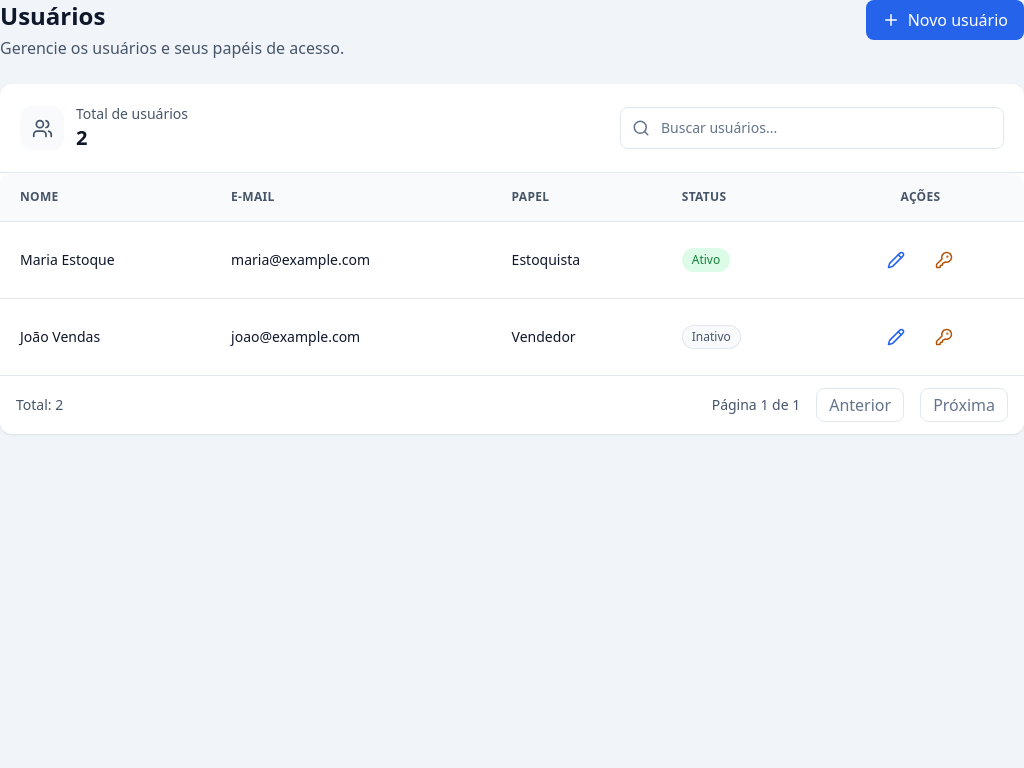
UserListPage › editar muda papel e ativo enviando PATCH; e-mail não é editável
The width and height of the screenshot is (1024, 768).
Expected: the text "Maria Estoque" is shown, 0,222 -> 211,298
Step 1. Click the button named "Editar João Vendas" → (896, 337), box 874,315 -> 918,359
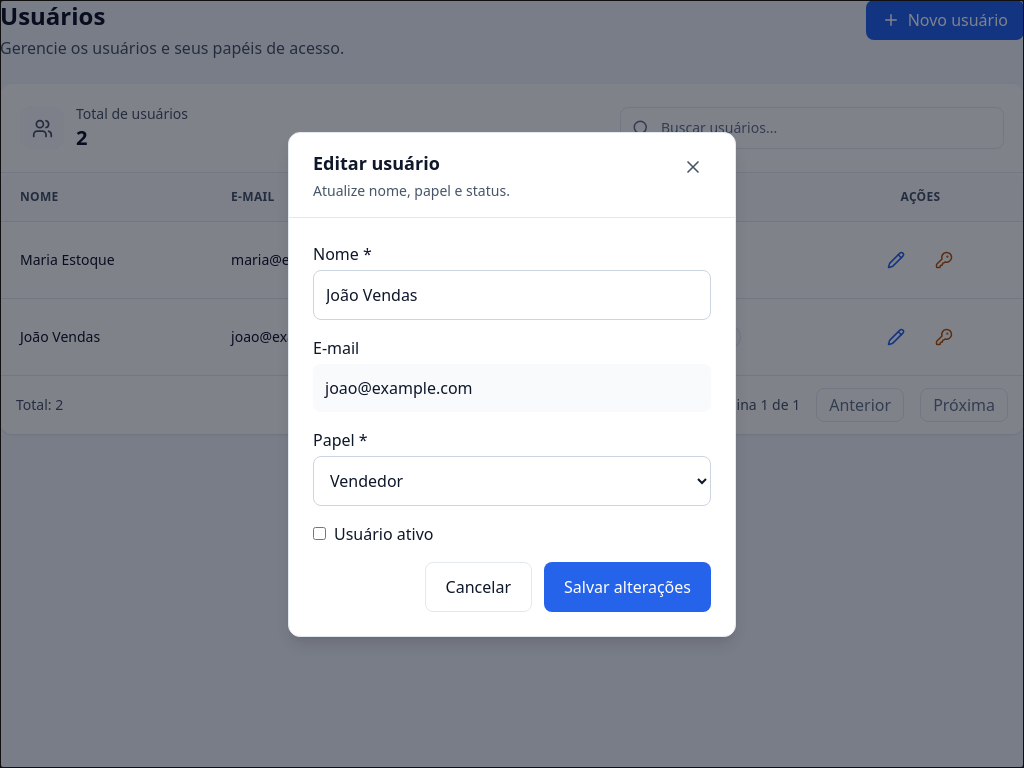
Now the text "joao@example.com" is shown, box 313,364 -> 711,412
Step 2. Select "Estoquista" in the dropdown labelled "Papel *" → (512, 480), box 313,456 -> 711,506
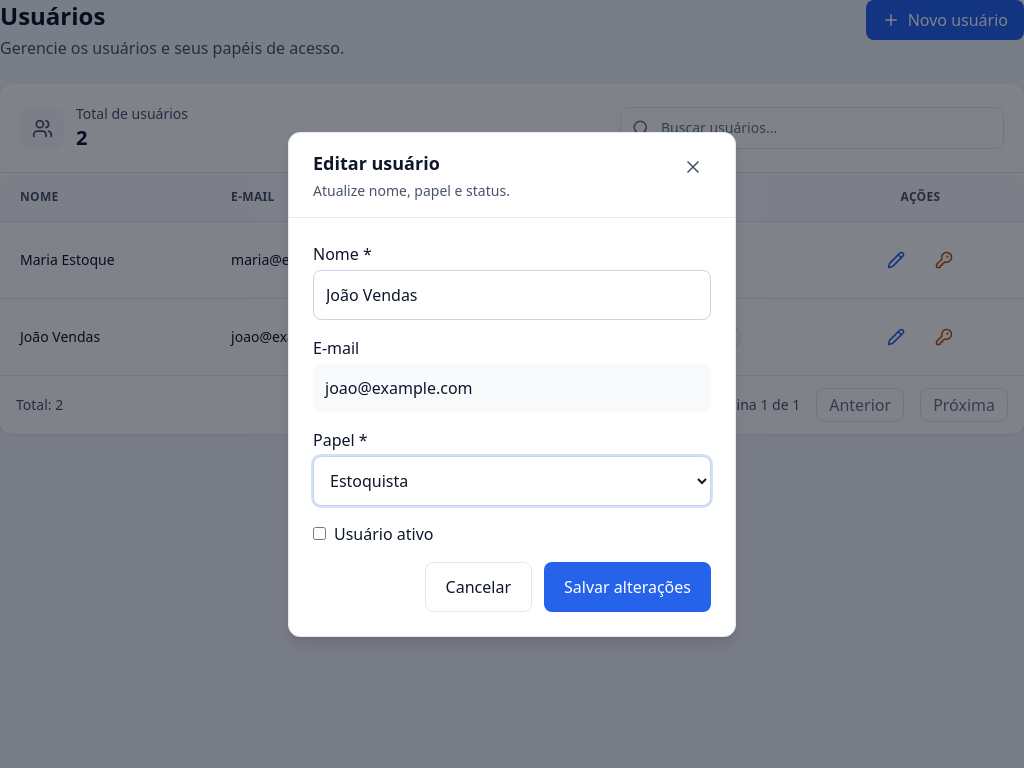
Step 3. Click the checkbox labelled "Usuário ativo" → (320, 534), box 313,527 -> 326,540
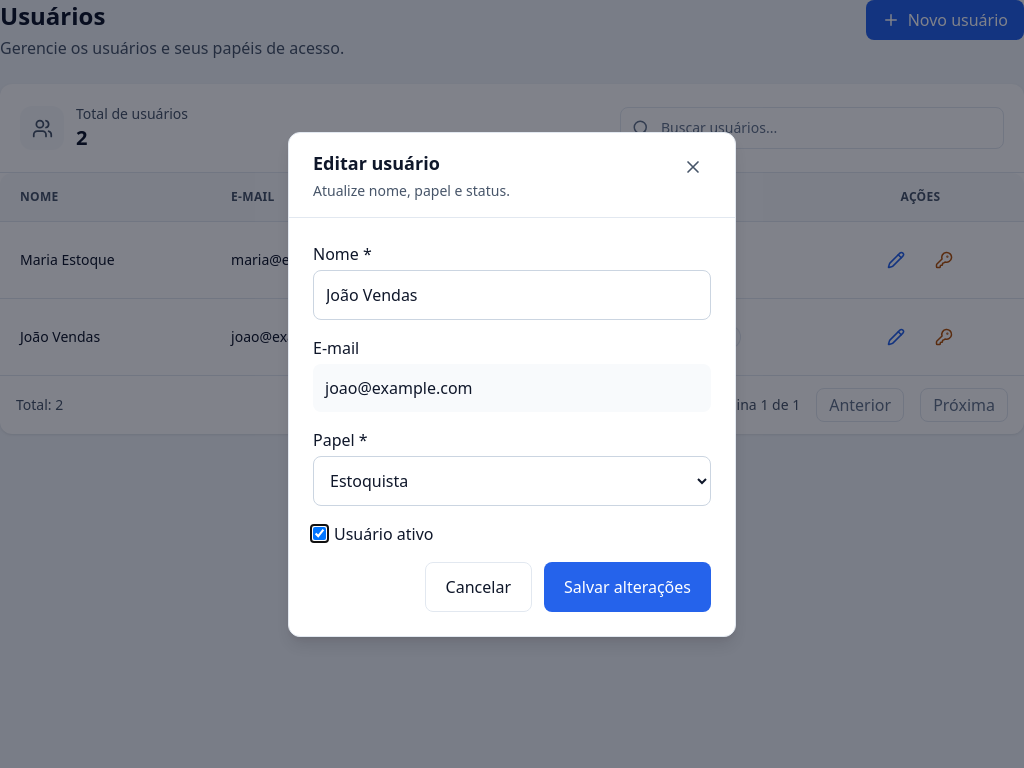
Step 4. Click the button "Salvar alterações" → (628, 586), box 544,562 -> 711,612
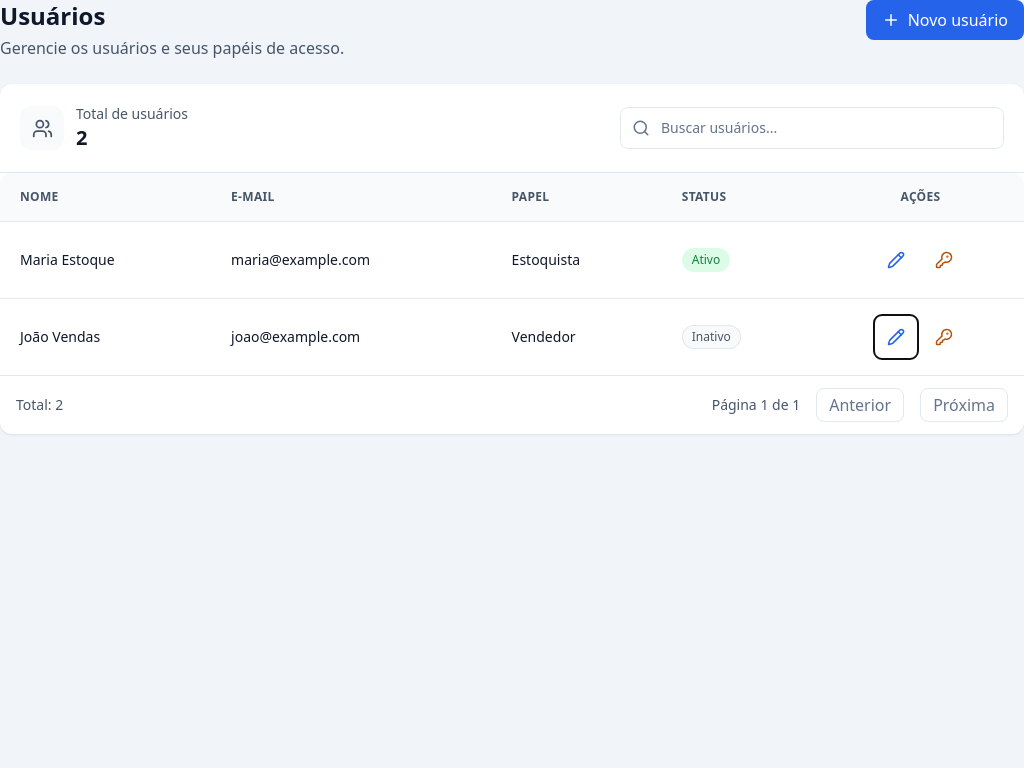
Now the dialog is gone
